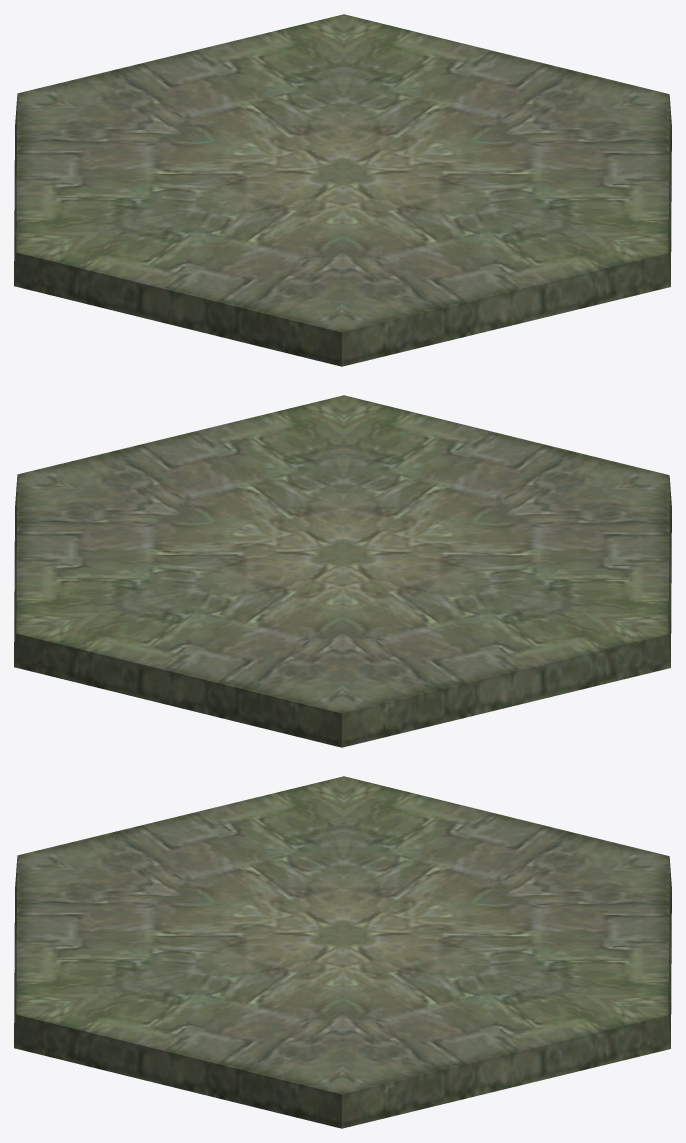
Rendered from stone pedestal.fbx.
The picture shows the model from 3 angles, top to bottom: view 1: azimuth 30°, elevation 25°; view 2: azimuth 150°, elevation 25°; view 3: azimuth 270°, elevation 25°; orthographic projection.
Visible parts, largest first — view 1: Element Client-33ad3718.obj; view 2: Element Client-33ad3718.obj; view 3: Element Client-33ad3718.obj.
Boxes of the visible parts, x1,y1,x2,y2 form: Element Client-33ad3718.obj: [14, 14, 671, 366]; Element Client-33ad3718.obj: [14, 395, 671, 747]; Element Client-33ad3718.obj: [14, 776, 671, 1128].
Size of the model in its own units: 9.47 by 0.4556 by 8.22.
